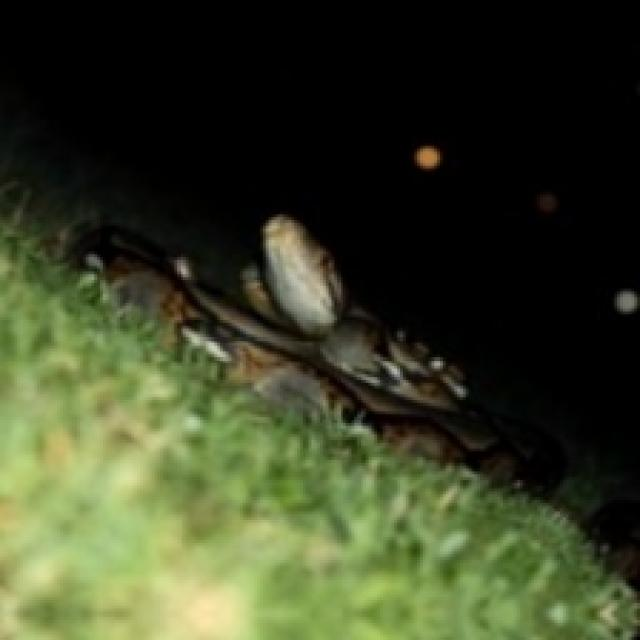reticulated python: (71, 214, 566, 491)
